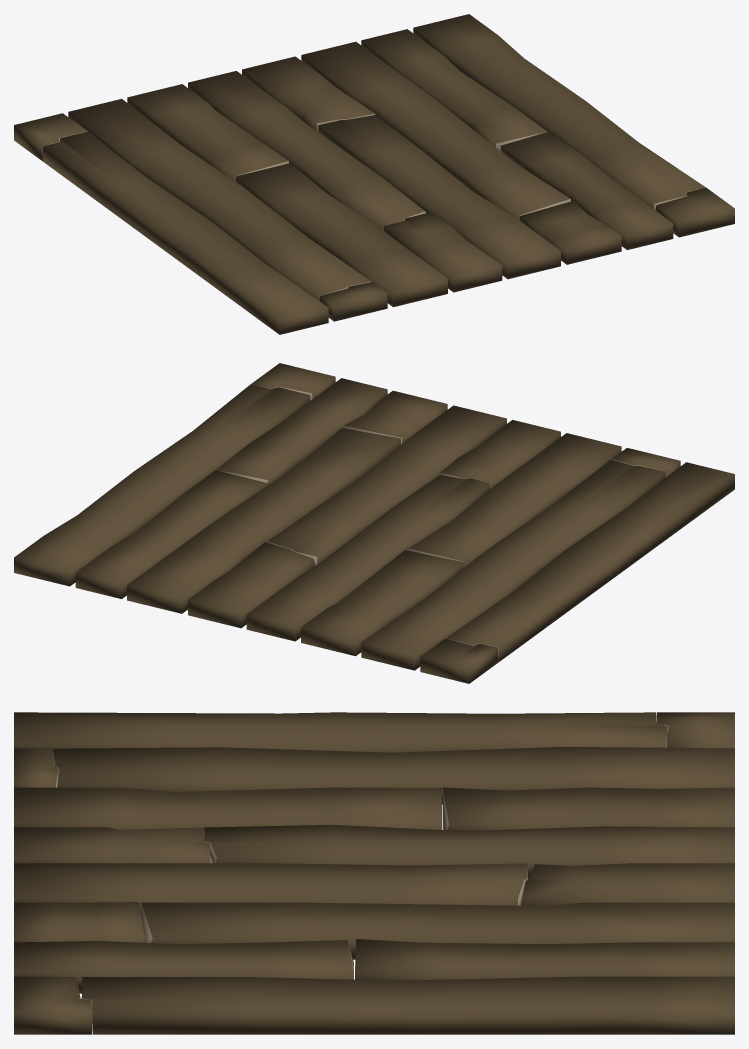
File: SM_Polygonal_Wood_Ceiling.fbx
3 renders of one model, top to bottom at view 1: azimuth 30°, elevation 25°; view 2: azimuth 150°, elevation 25°; view 3: azimuth 270°, elevation 25°, orthographic. The views are drawn at different scales.
Visible parts, largest first — view 1: SM_Polygonal_Wood_Ceiling_LOD0; view 2: SM_Polygonal_Wood_Ceiling_LOD0; view 3: SM_Polygonal_Wood_Ceiling_LOD0.
Boxes of the visible parts, left/top/right/bottom form: SM_Polygonal_Wood_Ceiling_LOD0: left=14, top=14, right=734, bottom=334; SM_Polygonal_Wood_Ceiling_LOD0: left=14, top=363, right=734, bottom=683; SM_Polygonal_Wood_Ceiling_LOD0: left=14, top=712, right=734, bottom=1034.
Bounding box in the file's own units: 297 × 300 × 9.57.
Materials: 1 (1 with a texture image).
